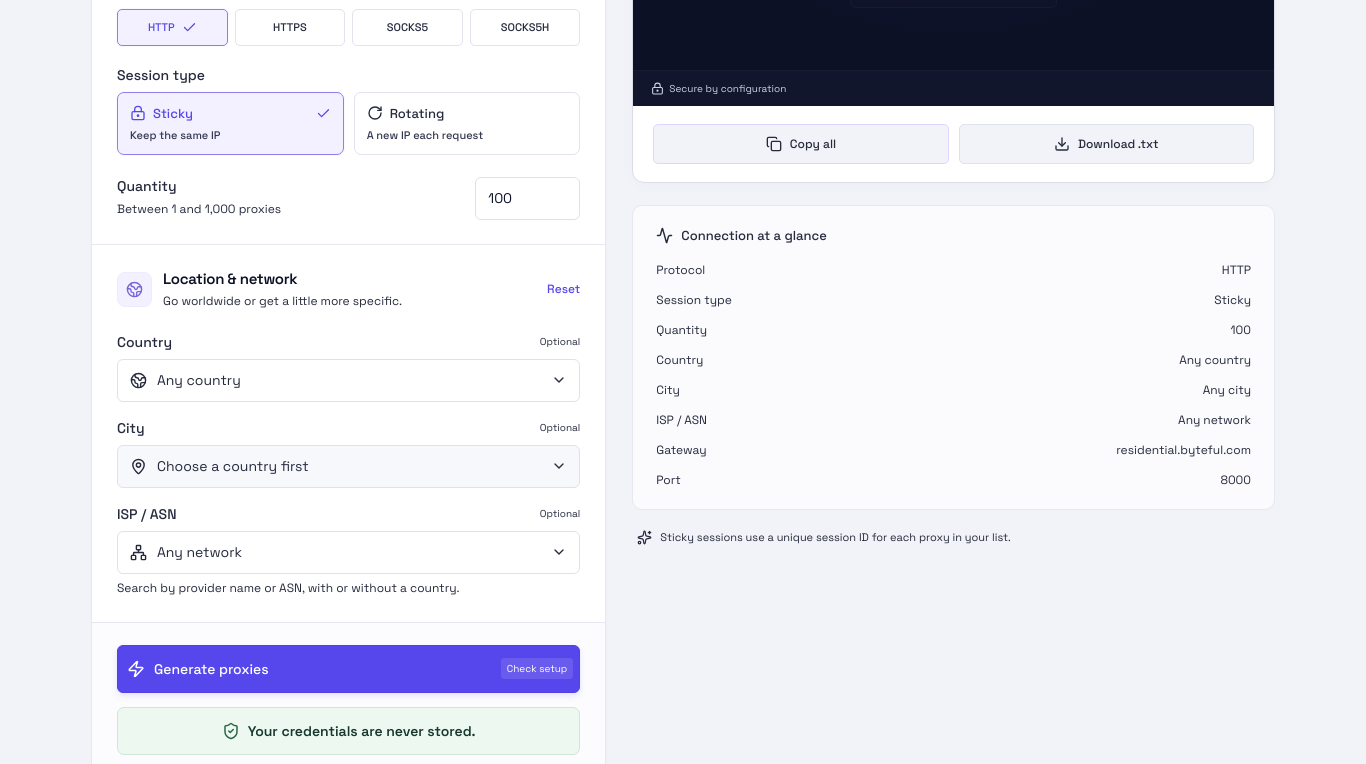
Test: generator user flow › clears stale search choices and restores keyboard selection after clearing search
Later steps or results of the test are not shown.
(page scrolled)
Click the button "Any country" at (199, 380), box left=117, top=359, right=580, bottom=402
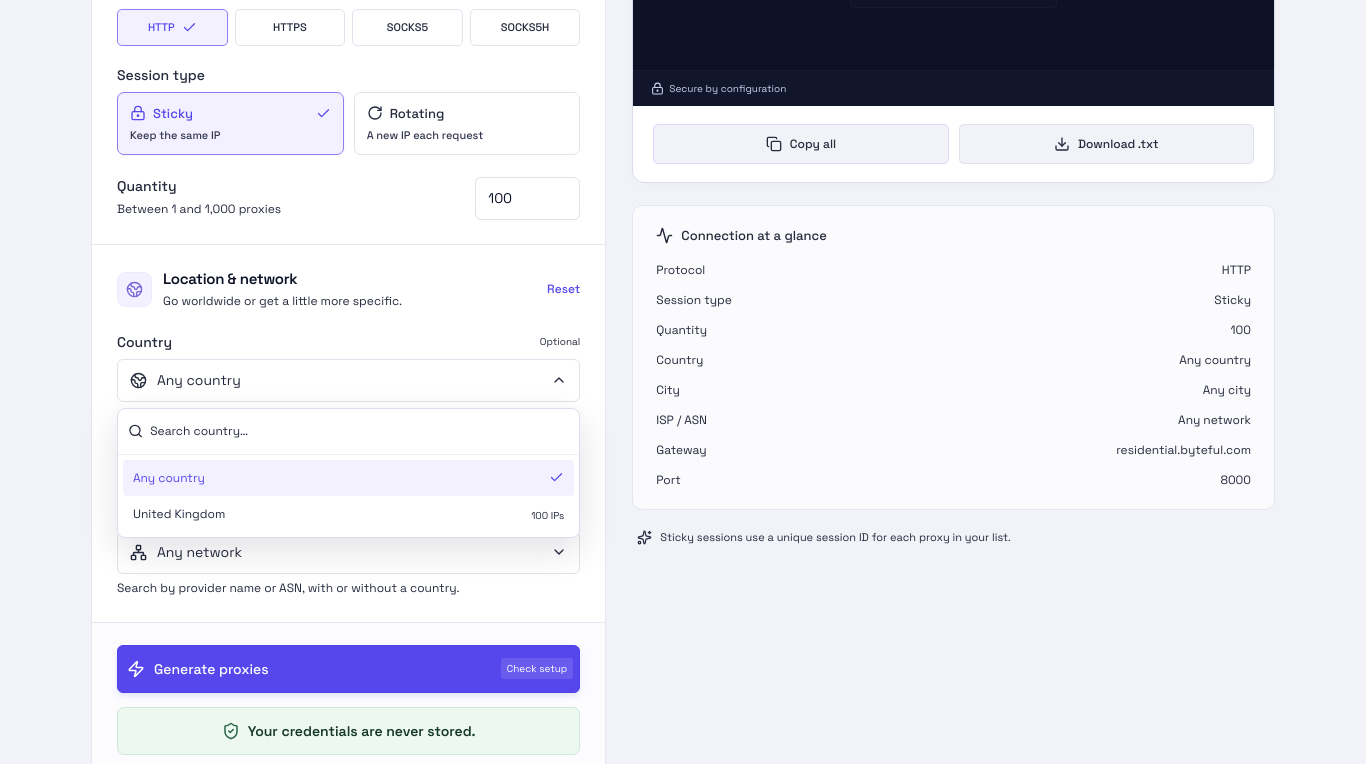
Now the option "United Kingdom 100 IPs" is shown, box left=123, top=496, right=574, bottom=532
Type "United" into the dropdown labelled "Search country" at (360, 431), box left=150, top=415, right=569, bottom=448
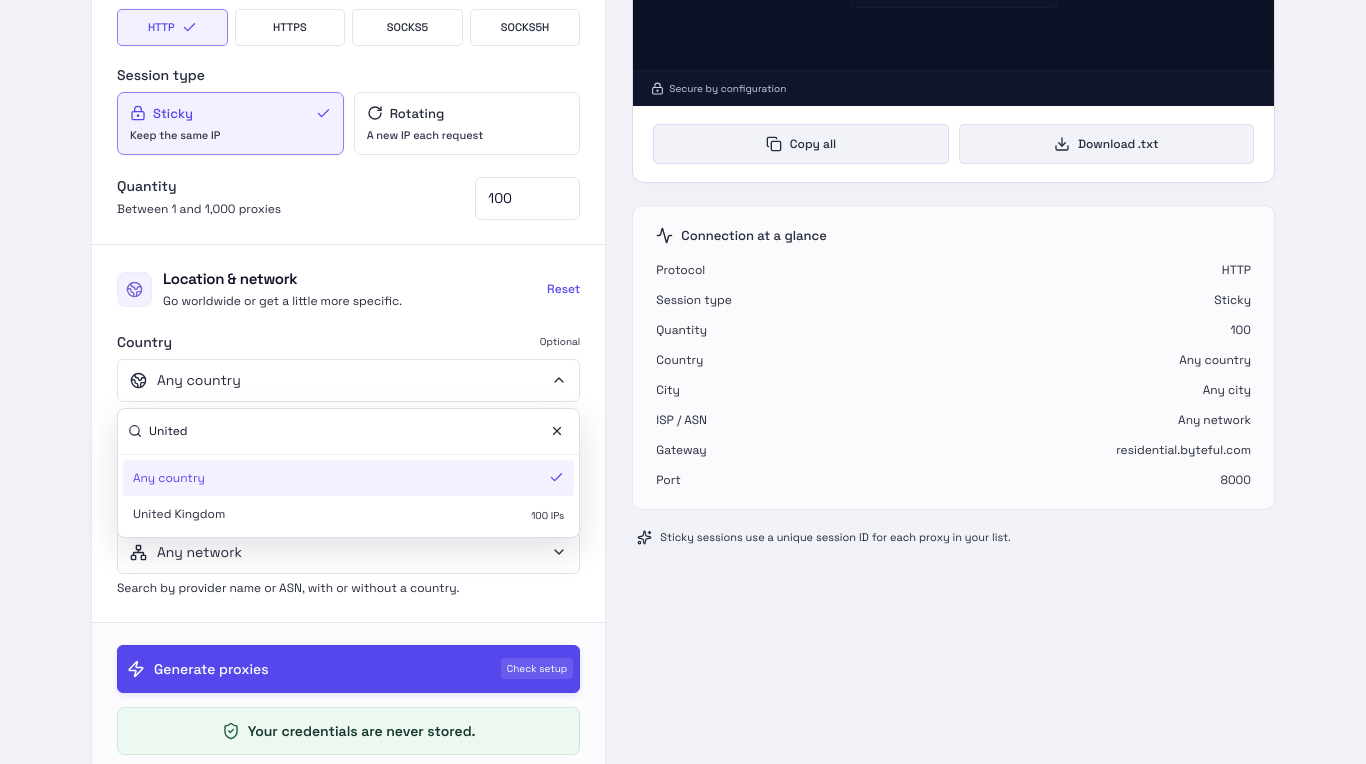
Now the option "United Kingdom 100 IPs" is shown, box left=123, top=496, right=574, bottom=532
